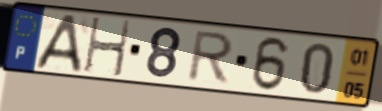0: (298, 41, 339, 96)
6: (248, 35, 292, 94)
8: (143, 25, 184, 81)
A: (32, 13, 84, 73)
H: (82, 16, 133, 80)
R: (183, 29, 237, 86)
